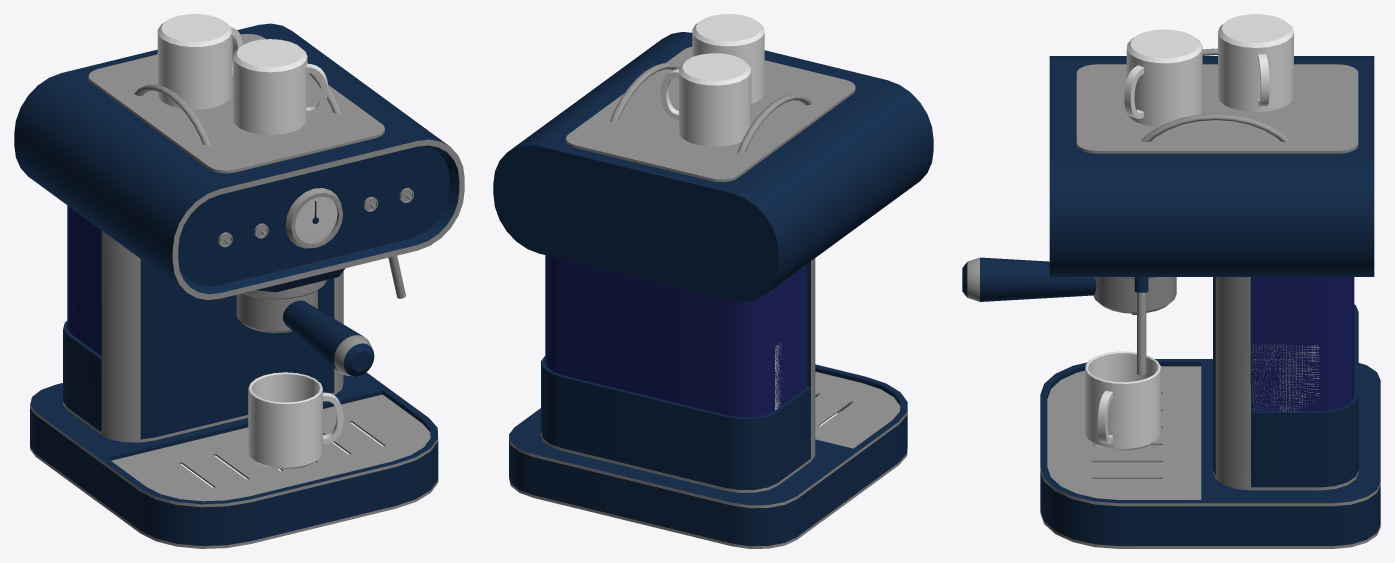
Rendered from 3D_sample.fbx.
3 renders of one model, left to right at view 1: azimuth 30°, elevation 25°; view 2: azimuth 150°, elevation 25°; view 3: azimuth 270°, elevation 25°, orthographic. The views are drawn at different scales.
Parts seen in each view (by area): view 1: pCube7, polySurface8, polySurface15, pasted__pasted__polySurface14, polySurface7, pCylinder16, pCylinder15, pCylinder10, polySurface9, pCylinder2, pCylinder3, pCylinder1 (+2 smaller); view 2: pCube7, polySurface9, polySurface15, polySurface8, polySurface7, pCylinder10, pasted__pasted__polySurface14, pCylinder15, pTorus2, pTorus1; view 3: pCube7, polySurface15, polySurface8, polySurface7, polySurface9, pasted__pasted__polySurface14, pCylinder10, pCylinder15, pCylinder16, pCylinder2, pCylinder1, pTorus1 (+2 smaller).
Boxes of the visible parts, box(x1,y1,x2,y2) form: pCube7: box(14, 23, 464, 299); polySurface8: box(63, 231, 343, 442); polySurface15: box(30, 372, 438, 548); pasted__pasted__polySurface14: box(111, 394, 430, 501); polySurface7: box(88, 34, 384, 173); pCylinder16: box(248, 372, 343, 469); pCylinder15: box(233, 39, 328, 134); pCylinder10: box(157, 14, 242, 109); polySurface9: box(67, 205, 101, 355); pCylinder2: box(282, 300, 374, 376); pCylinder3: box(285, 188, 342, 248); pCylinder1: box(236, 280, 326, 333); pCube7: box(493, 32, 933, 301); polySurface9: box(545, 255, 807, 417); polySurface15: box(509, 364, 907, 548); polySurface8: box(541, 258, 815, 492); polySurface7: box(566, 46, 855, 181); pCylinder10: box(660, 53, 751, 146); pasted__pasted__polySurface14: box(815, 371, 900, 448); pCylinder15: box(692, 14, 764, 103); pTorus2: box(737, 94, 812, 153); pTorus1: box(610, 63, 679, 122); pCube7: box(1049, 56, 1374, 276); polySurface15: box(1040, 359, 1380, 548); polySurface8: box(1213, 277, 1358, 490); polySurface7: box(1076, 64, 1358, 153); polySurface9: box(1251, 277, 1354, 411); pasted__pasted__polySurface14: box(1047, 366, 1201, 499); pCylinder10: box(1218, 14, 1293, 112); pCylinder15: box(1124, 29, 1202, 127); pCylinder16: box(1085, 351, 1160, 450); pCylinder2: box(962, 257, 1096, 301); pCylinder1: box(1093, 277, 1176, 313); pTorus1: box(1141, 113, 1290, 142).
Size of the model in its own units: 16.19 by 22.61 by 19.64.
